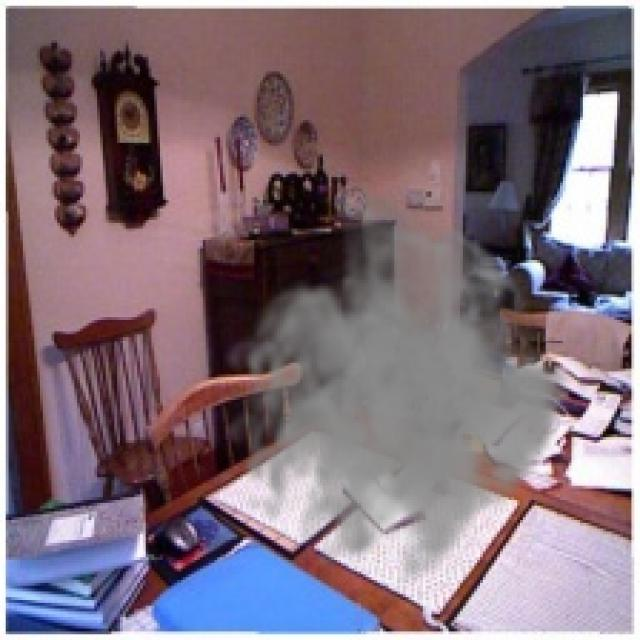smoke: (223, 186, 571, 597)
